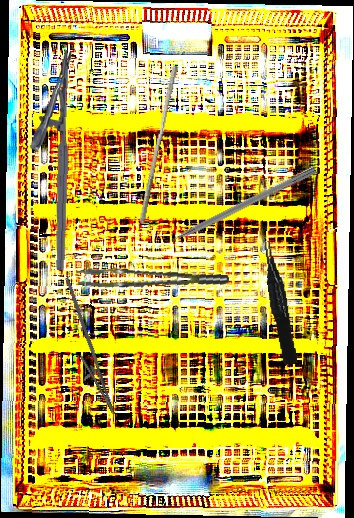Needle Holder: (39, 276, 132, 420), (26, 48, 73, 271)
Pusher: (152, 164, 318, 252), (138, 64, 179, 226)
Tissue Forceps: (74, 254, 230, 306), (261, 239, 298, 366)
